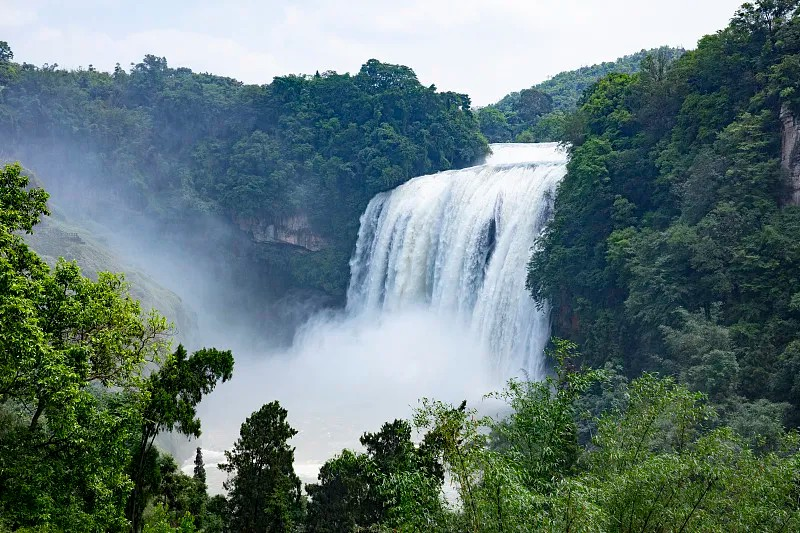Huangguoshu: (345, 143, 573, 400)
